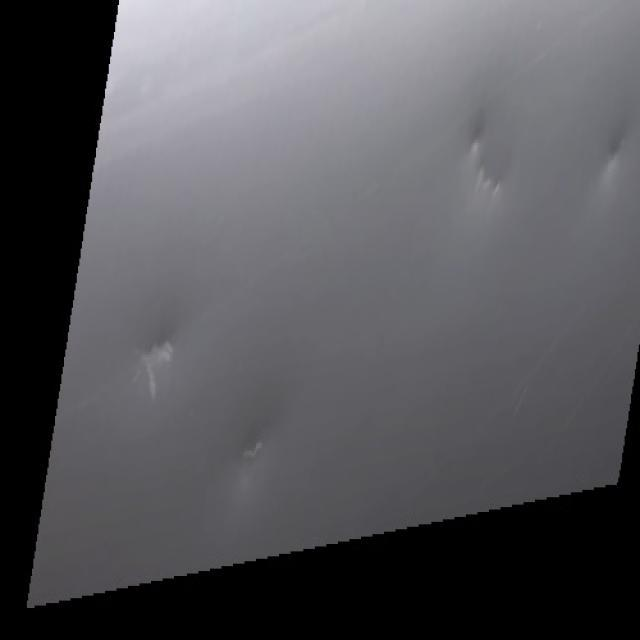dent: (134, 328, 230, 395), (462, 122, 526, 213), (600, 124, 640, 215), (241, 420, 287, 477)
